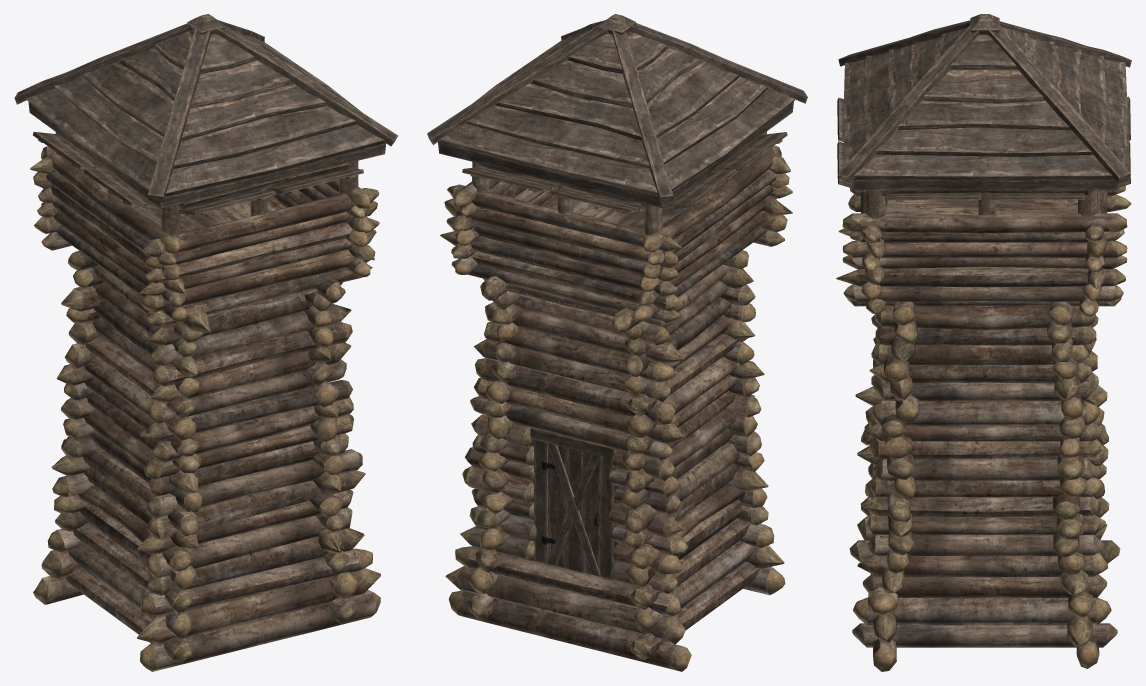
Rendered from jav_struc_def_log_t1_tower-transformed.glb.
3 views of the same model, side by side, from view 1: azimuth 30°, elevation 25°; view 2: azimuth 150°, elevation 25°; view 3: azimuth 270°, elevation 25° (orthographic).
Parts seen in each view (by area): view 1: default; view 2: default; view 3: default.
Part boxes in pixels (x1,y1,x2,y2): default: (14, 14, 398, 671); default: (427, 14, 807, 671); default: (836, 14, 1131, 671).
Size of the model in its own units: 4.66 by 10.55 by 4.68.
1 material, 1 textured.
